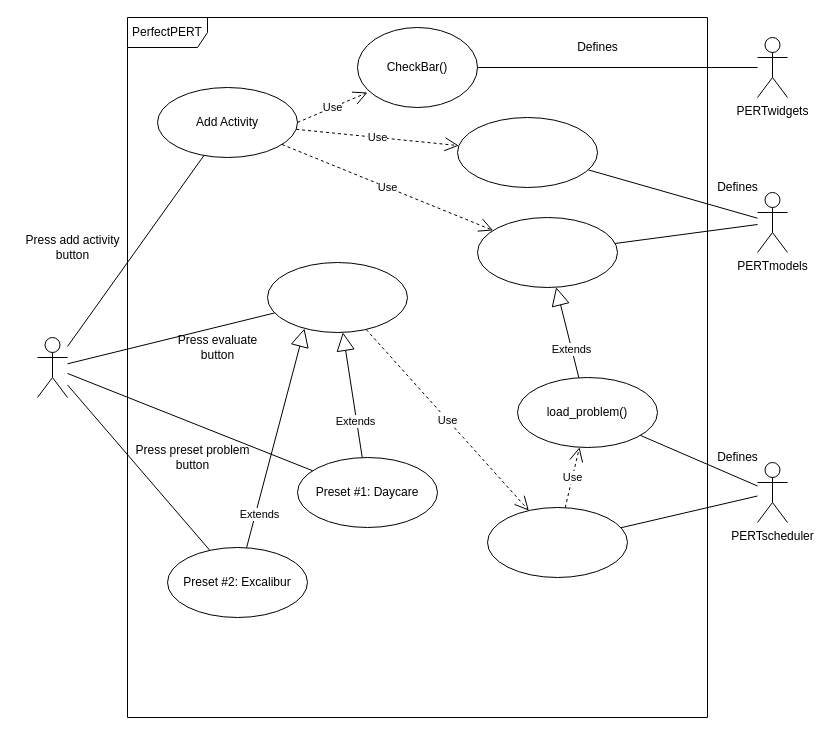
Image size: 831x735. Some labels were removed from this diagram. Here are the shapes that lost their labels. From the top down, the centre of each, then its label:
At (527,152): "Activity_Input()".
At (547,252): "Milestone()".
At (337,297): "Evaluate PERT".
At (52,367): "User".
At (557,542): "executePERT()".
